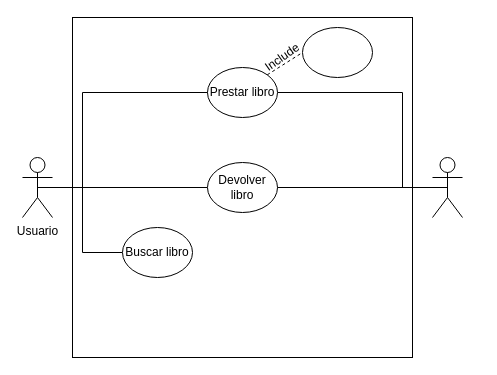
Image size: 497x375. Some labels were removed from this diagram. The shapes that lost their labels are listed below. From the top down, each one's centre as x and y in pixels, then its label:
At (337,52): "Verificar usuario".
At (447,187): "Bibliotecario".
